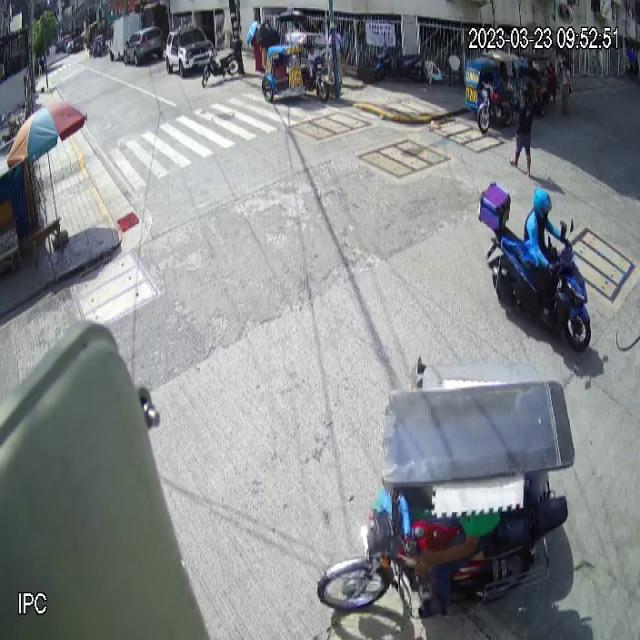Motorcycle: (485, 216, 593, 357)
Tricycle: (314, 356, 576, 623), (260, 29, 330, 104), (464, 50, 520, 135)
